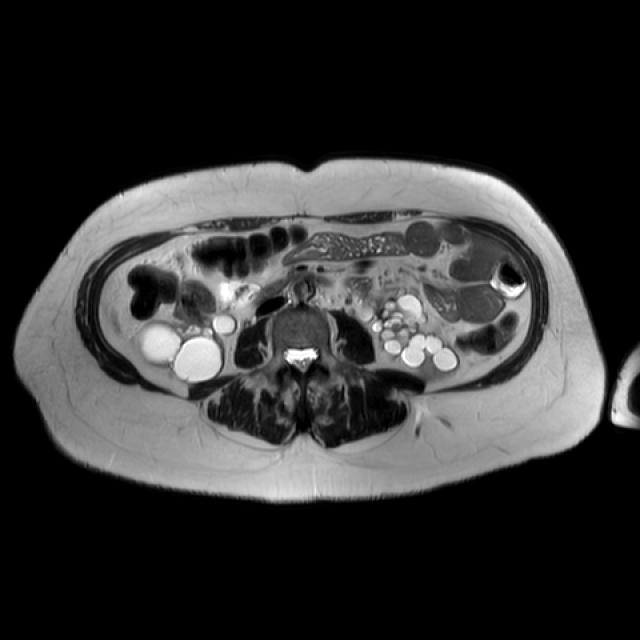sag: (136, 312, 238, 384)
sol: (359, 291, 461, 380)
